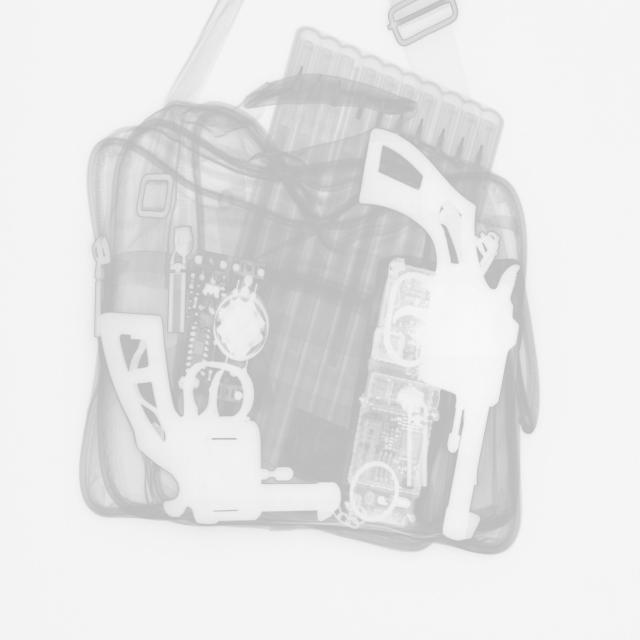grenade: (348, 248, 456, 546)
